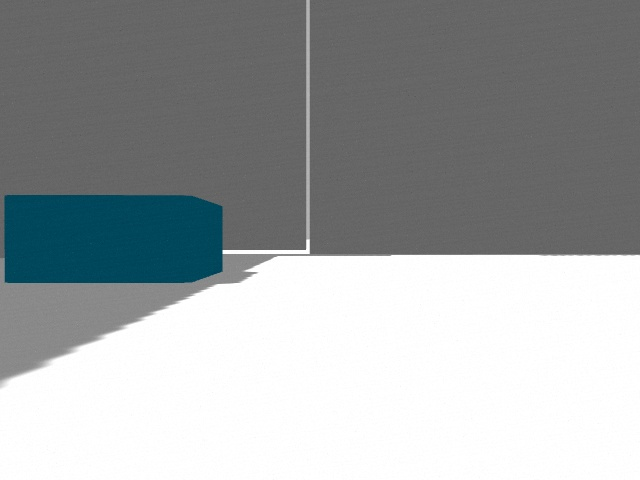blue_drop_zone: (4, 195, 223, 283)
